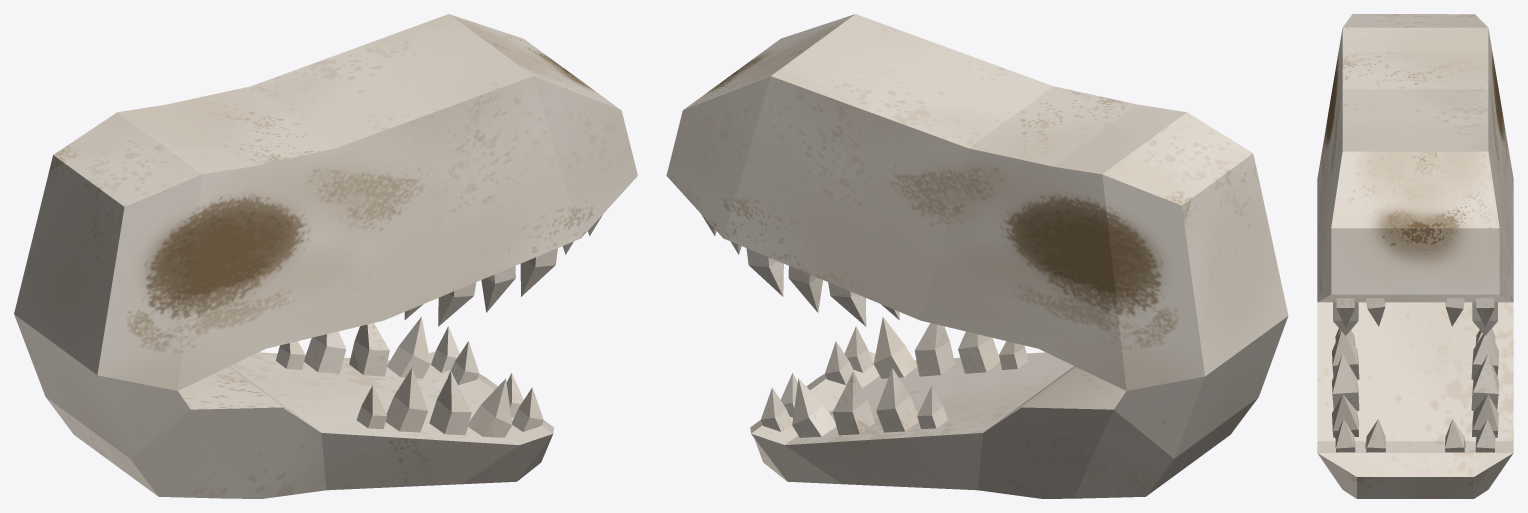
The model's file is SM_skull.fbx.
The picture shows the model from 3 angles, left to right: view 1: azimuth 30°, elevation 25°; view 2: azimuth 150°, elevation 25°; view 3: azimuth 270°, elevation 25°; orthographic projection. The views are drawn at different scales.
Parts seen in each view (by area): view 1: trexSkull; view 2: trexSkull; view 3: trexSkull.
Boxes of the visible parts, x1,y1,x2,y2 form: trexSkull: (14,14,637,498); trexSkull: (666,14,1288,498); trexSkull: (1317,14,1513,498).
Bounding box in the file's own units: 26.51 × 19.12 × 9.87.
